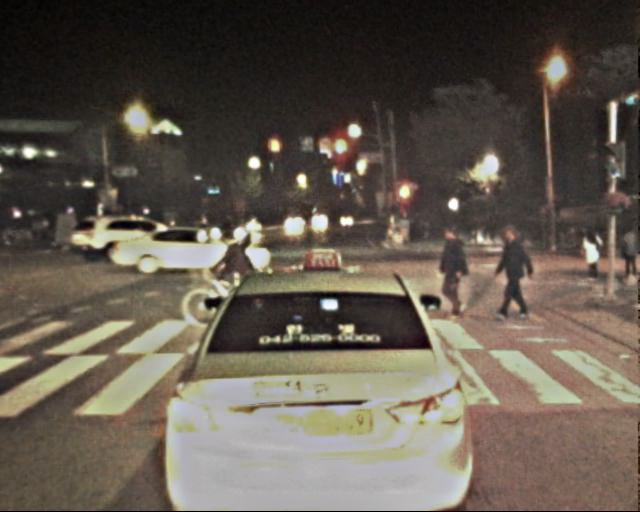person: (494, 227, 535, 326), (437, 224, 477, 321), (215, 227, 252, 317), (578, 226, 605, 293), (617, 230, 639, 283)
